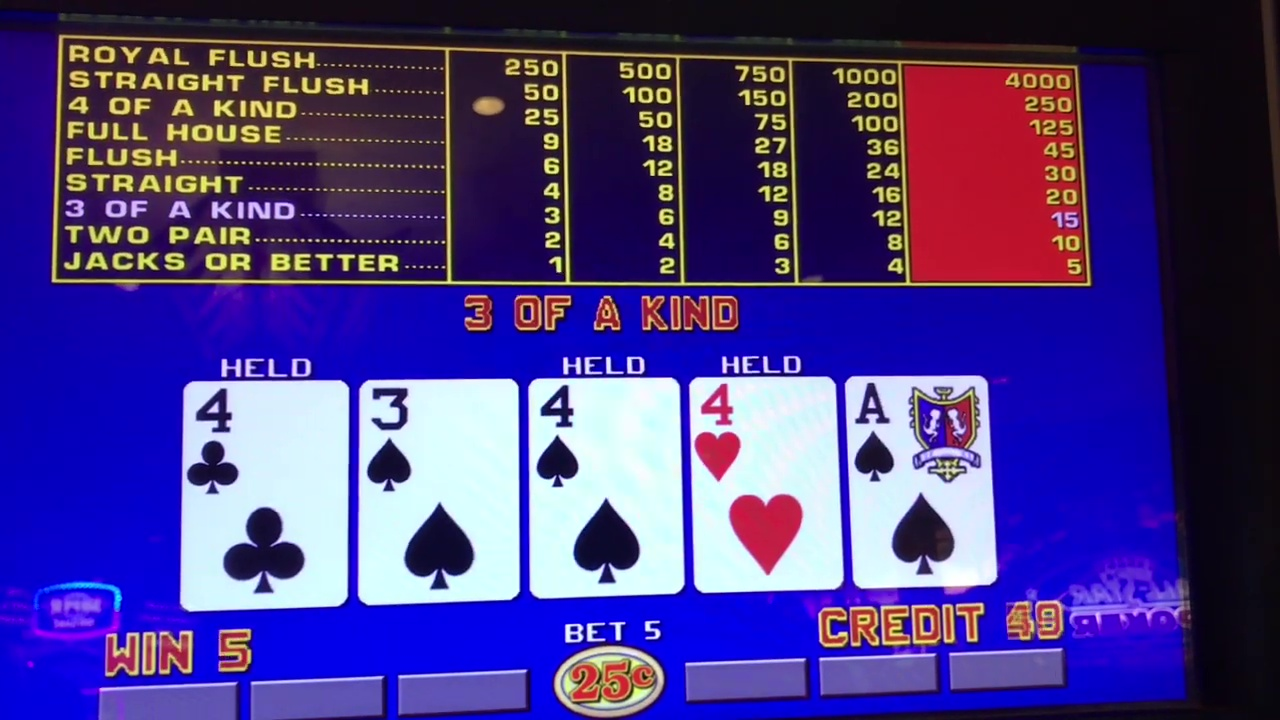C4: (189, 383, 338, 506)
H4: (696, 380, 841, 494)
S3: (366, 379, 515, 500)
S4: (533, 382, 682, 497)
SA: (849, 377, 986, 493)
